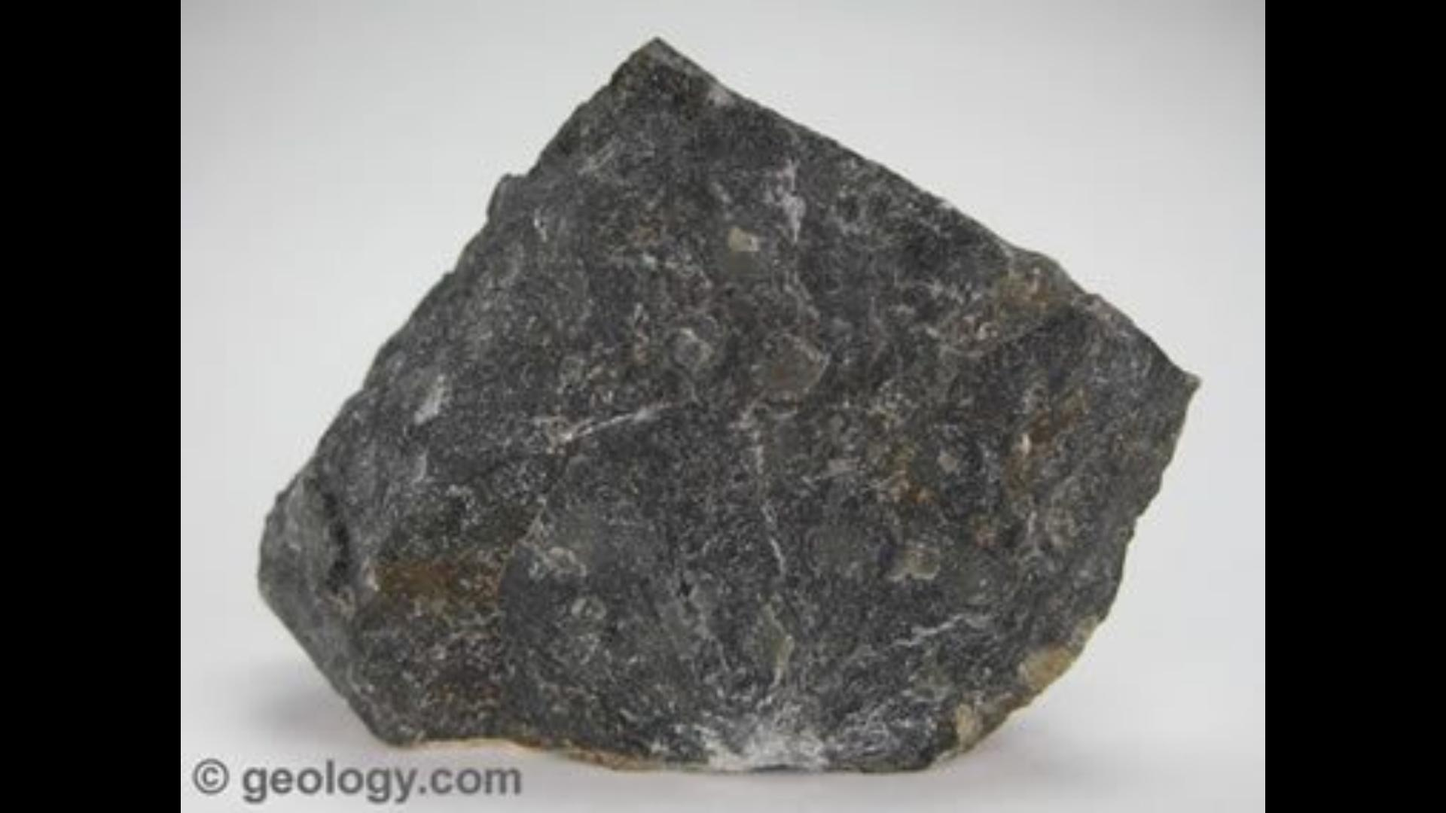rock: (261, 40, 1194, 767)
